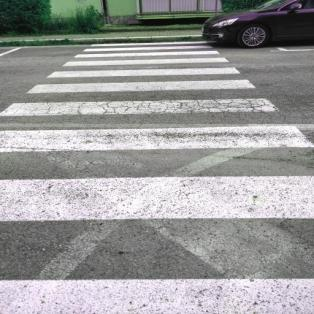Paso de Cebra: (0, 121, 313, 229), (23, 66, 263, 96)
